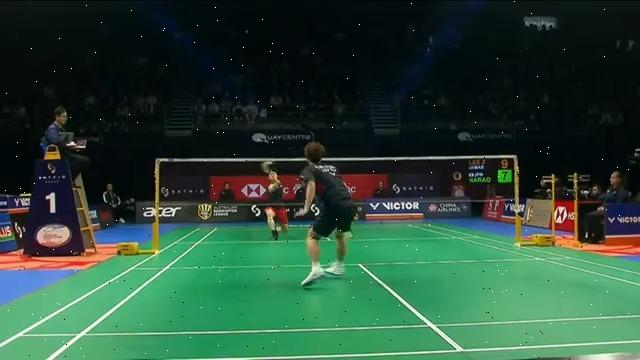Shuttlecock: (264, 157, 276, 167)
